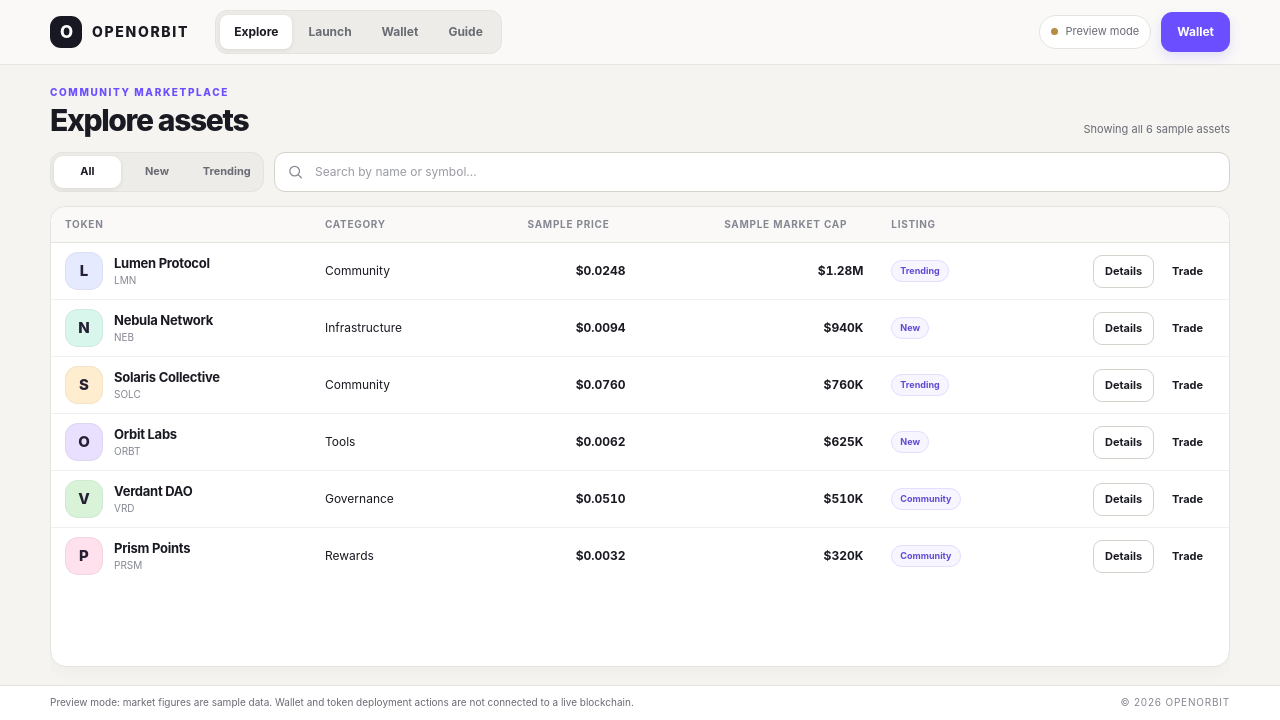
Test: catalog search feedback › diagnoses the empty catalog with the user's own search and filter
Click the button "Trending": [227, 172] box [193, 156, 260, 188]
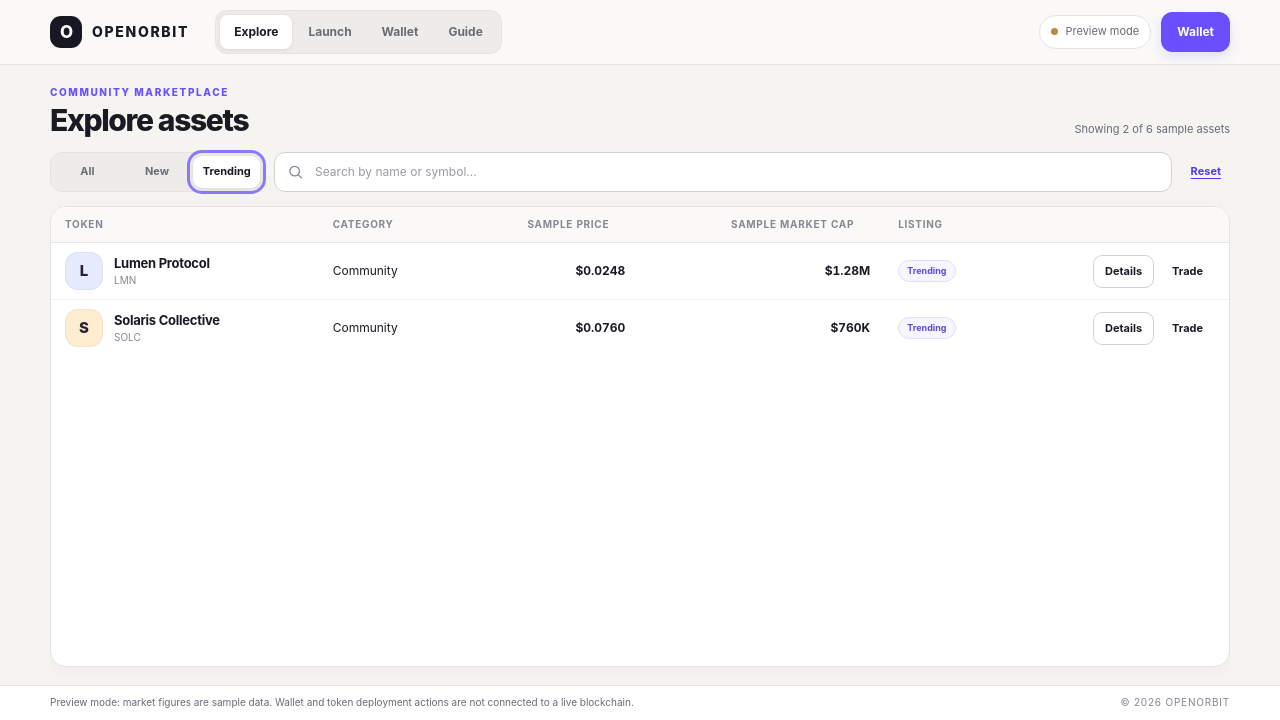
In the field named "Search assets": [723, 172] box [274, 152, 1172, 192], type "Nebula"
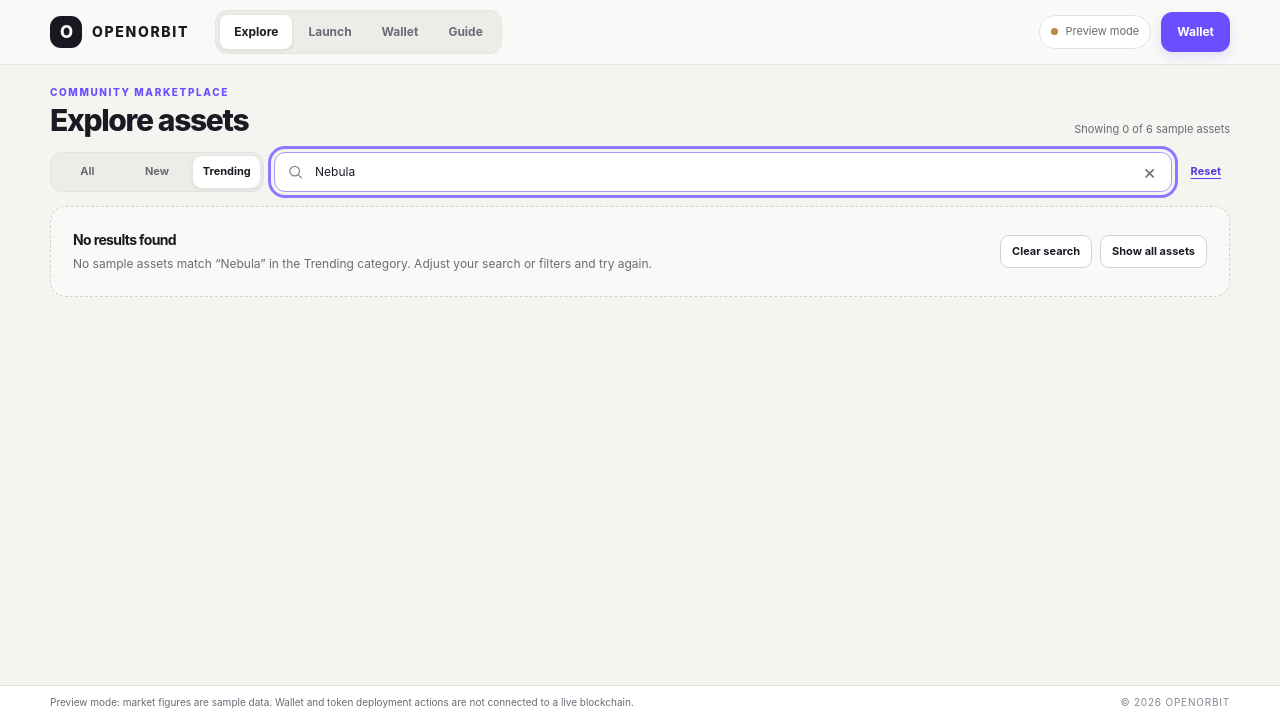
Now the text "No results found" is shown, box [73, 231, 176, 248]
Now the text "No sample assets match “Nebula” in the Trending category." is shown, box [73, 256, 411, 271]
Now the text "Adjust your search or filters and try again." is shown, box [411, 256, 652, 271]
